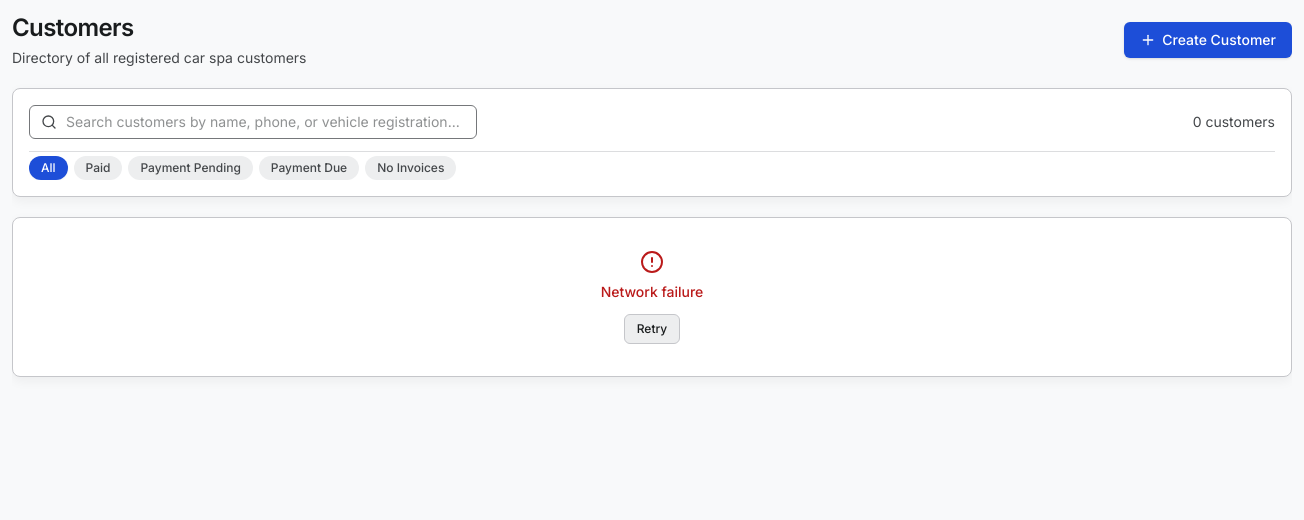
Test case: CustomersPage Component › displays error state and retries fetching on retry button click
The image size is (1304, 520).
expect the text "Network failure" is shown: met, box [601,283,703,300]
Click the button "Retry".
click(652, 329)  # box [624,314,680,344]
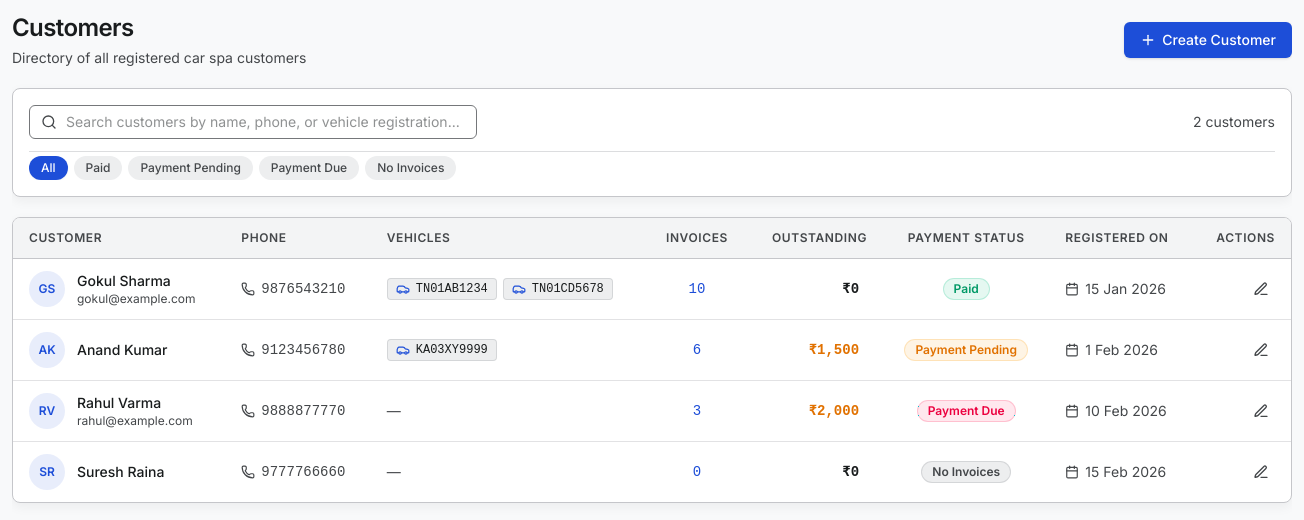
expect the text "Gokul Sharma" is shown: met, box [77,272,171,289]
